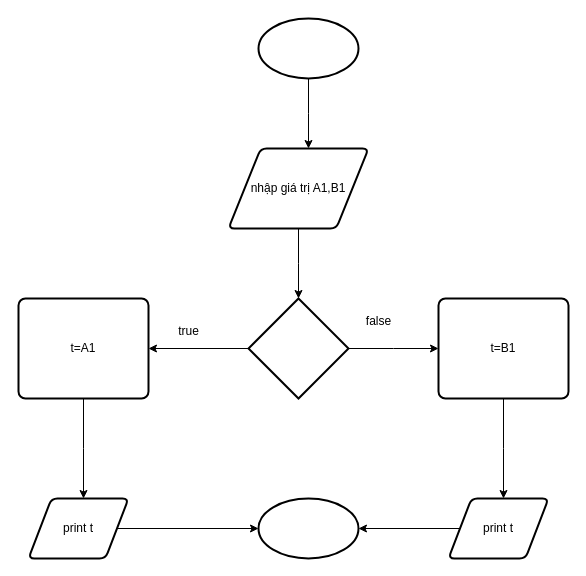
Image size: 586x576. Some labels were removed from this diagram. Here are the shapes that lost their labels. From the top down, the box of each, then its label:
(257, 17, 359, 79): Start
(247, 297, 349, 399): If A1 < B1
(257, 497, 359, 559): end
